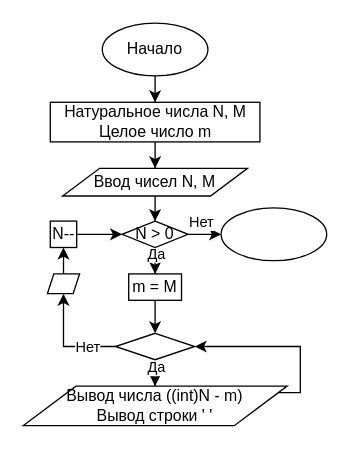
This 350x449 diagram has some shape labels left out. Here are the shapes that lost their labels. From the top down, the box of each, then its label:
(220, 207, 327, 261): Конец
(46, 273, 80, 294): '\n'
(114, 332, 195, 360): m > 0
